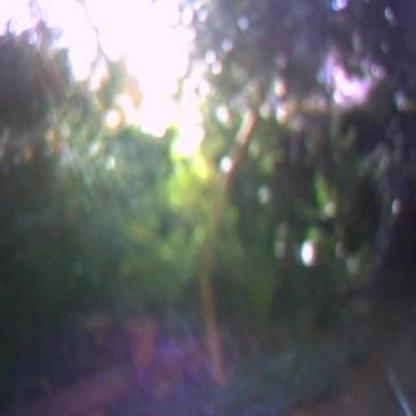other: (44, 3, 226, 195)
